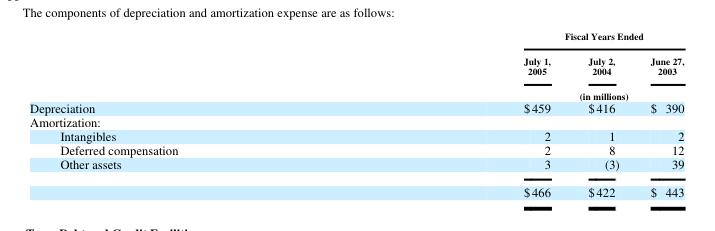table: (29, 29, 683, 199)
table column: (29, 29, 350, 199), (350, 29, 568, 199), (568, 29, 634, 199), (634, 29, 683, 199)
table column header: (29, 29, 683, 100)
table projected row header: (29, 114, 683, 128)
table row: (29, 48, 683, 83), (29, 177, 683, 199), (29, 156, 683, 177), (29, 29, 683, 48), (29, 83, 683, 100), (29, 100, 683, 114), (29, 114, 683, 128), (29, 128, 683, 142), (29, 142, 683, 156)
table spanning cell: (350, 29, 683, 48), (350, 83, 683, 100)
